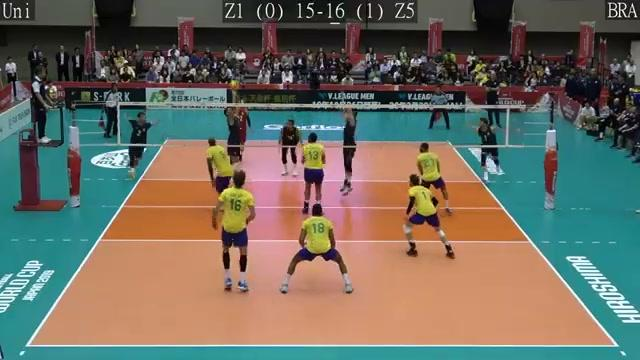ball: (227, 77, 243, 93)
